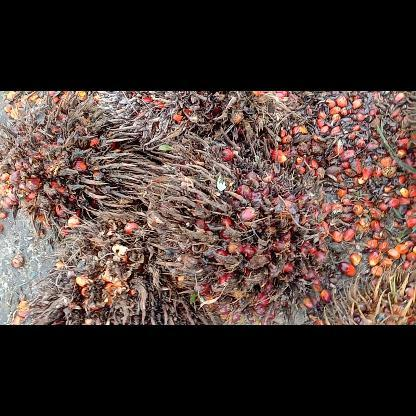Terlalu masak: (140, 129, 332, 324), (0, 90, 156, 248), (21, 210, 219, 324), (91, 90, 290, 154)
